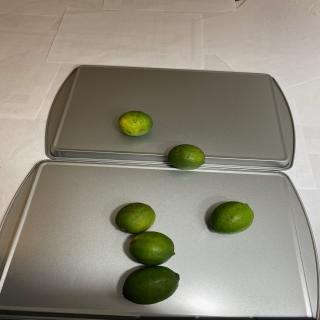Lemon: (122, 265, 180, 305), (128, 231, 176, 266), (210, 201, 254, 234), (114, 202, 156, 234), (168, 144, 205, 170), (118, 110, 153, 136)
